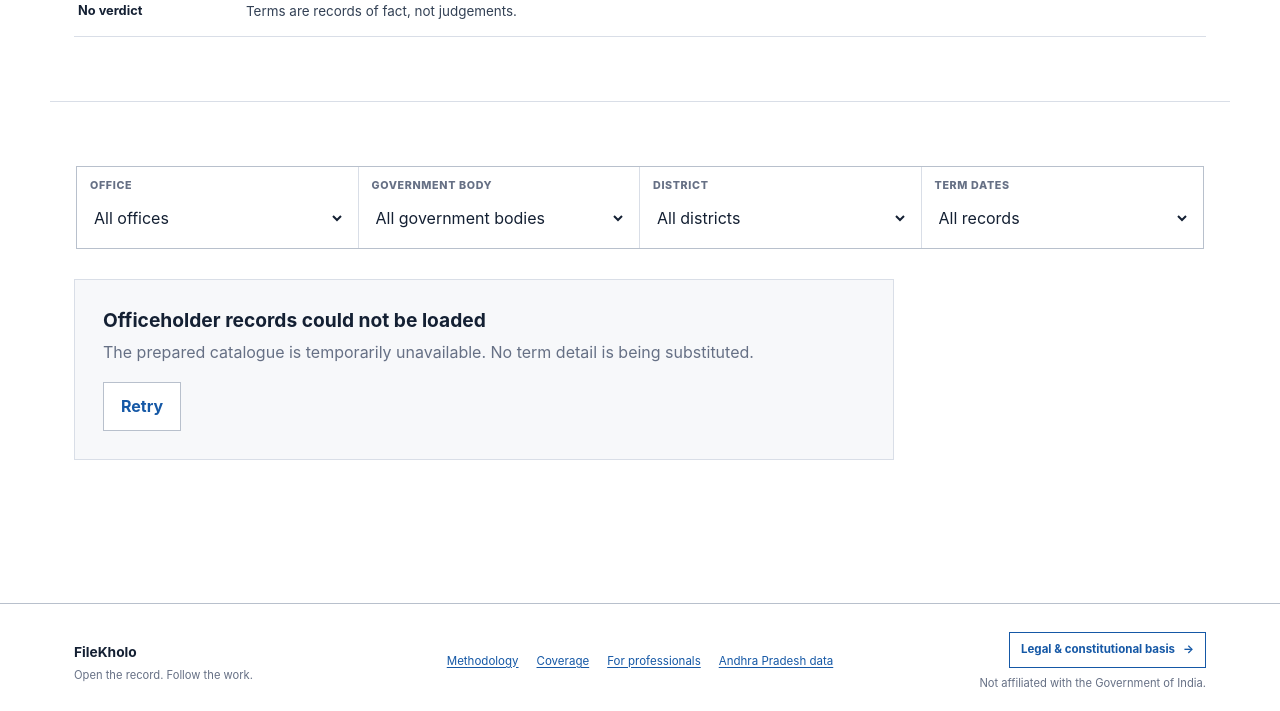
Test case: OfficeholdersDirectory › reports failures, retries, then shows filtered-empty honestly
(page scrolled)
Expected: the message shows "No term detail is being substituted", [103, 342, 754, 362]
Click the button "Retry": (142, 407) [103, 382, 181, 431]
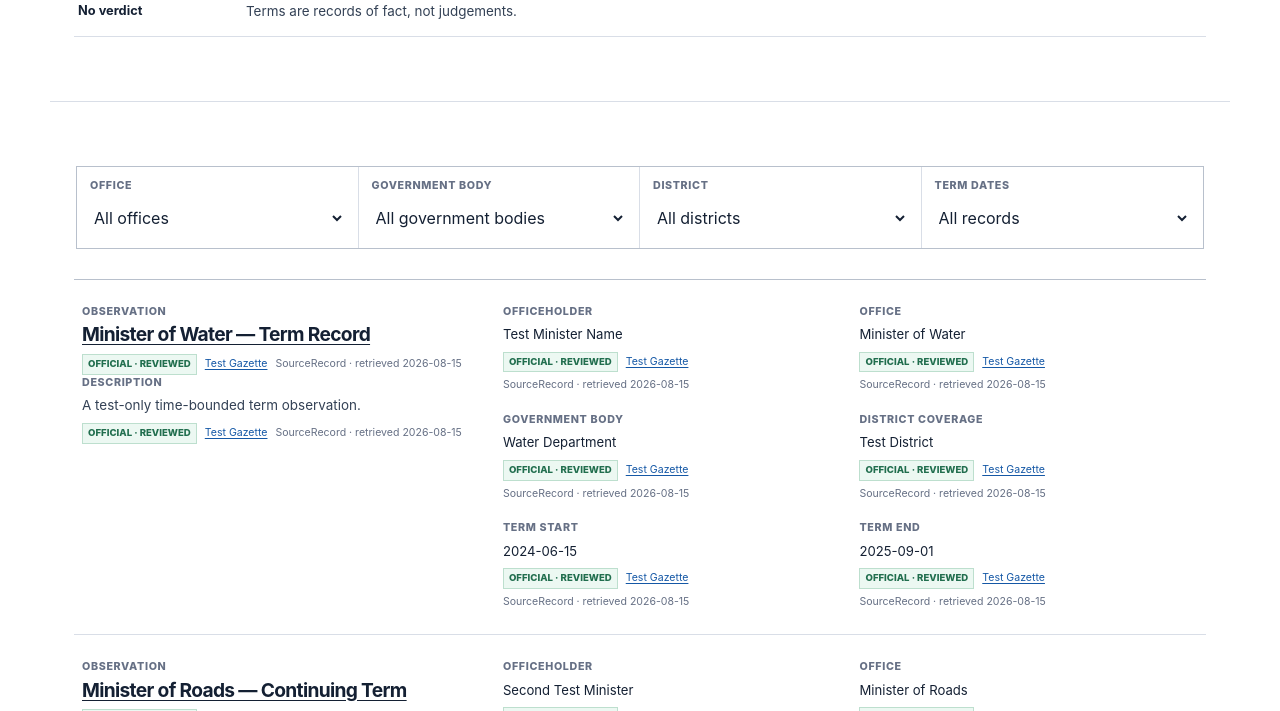
Expected: the heading "Minister of Water — Term Record" is shown, [82, 322, 370, 346]
Select "Minister of Roads" in the dropdown labelled "Office": (217, 218) [90, 199, 344, 237]
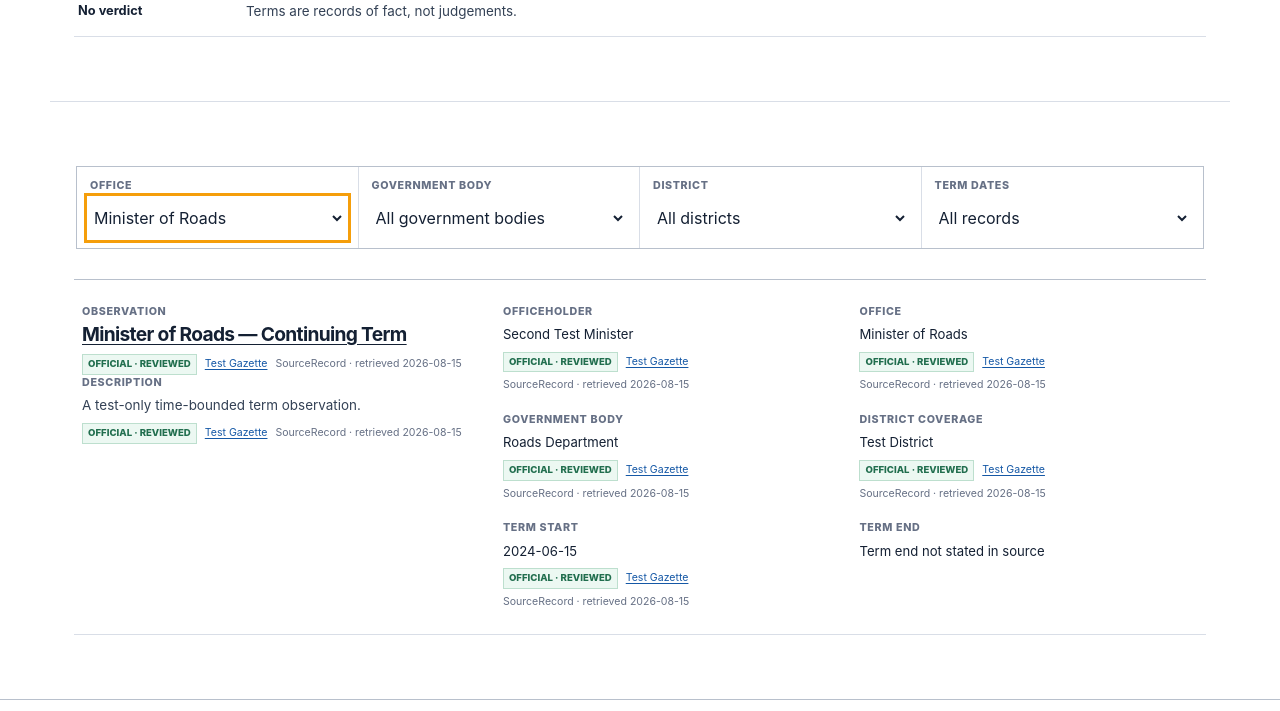
Select "Water Department" in the dropdown labelled "Government body": (499, 218) [372, 199, 626, 237]
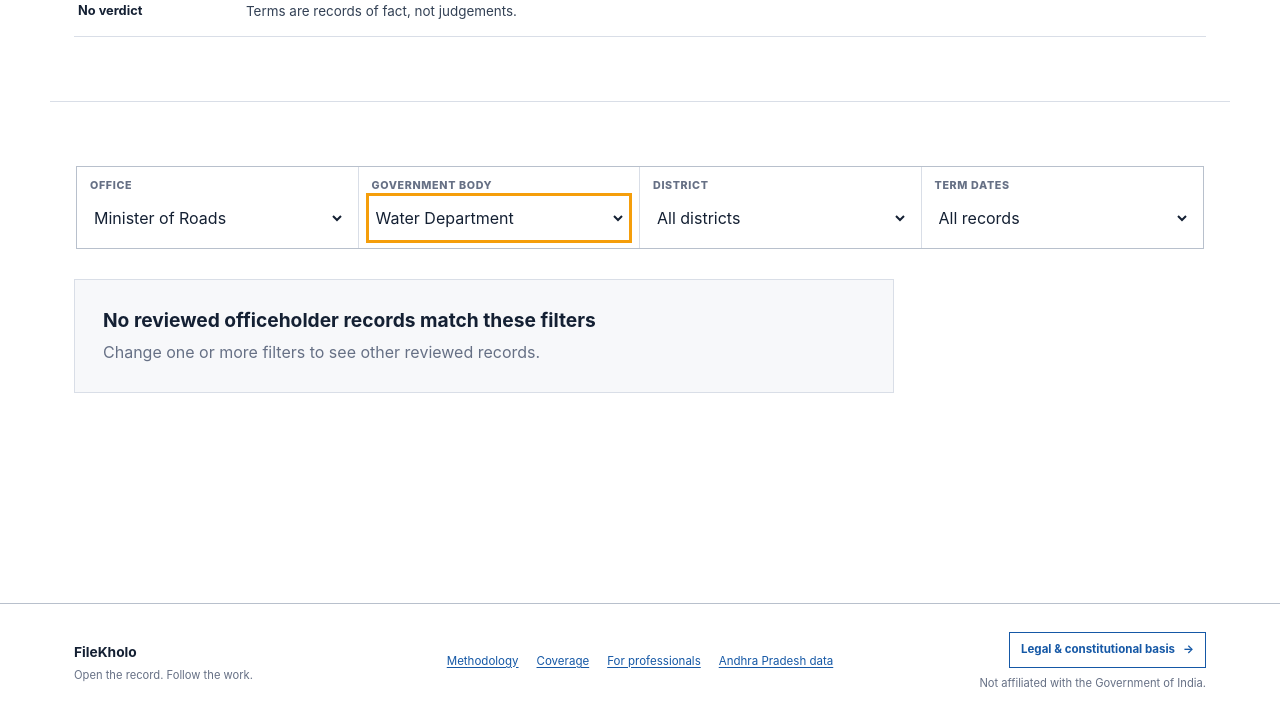
Expected: the heading "No reviewed officeholder records match these filters" is shown, [103, 308, 596, 332]
